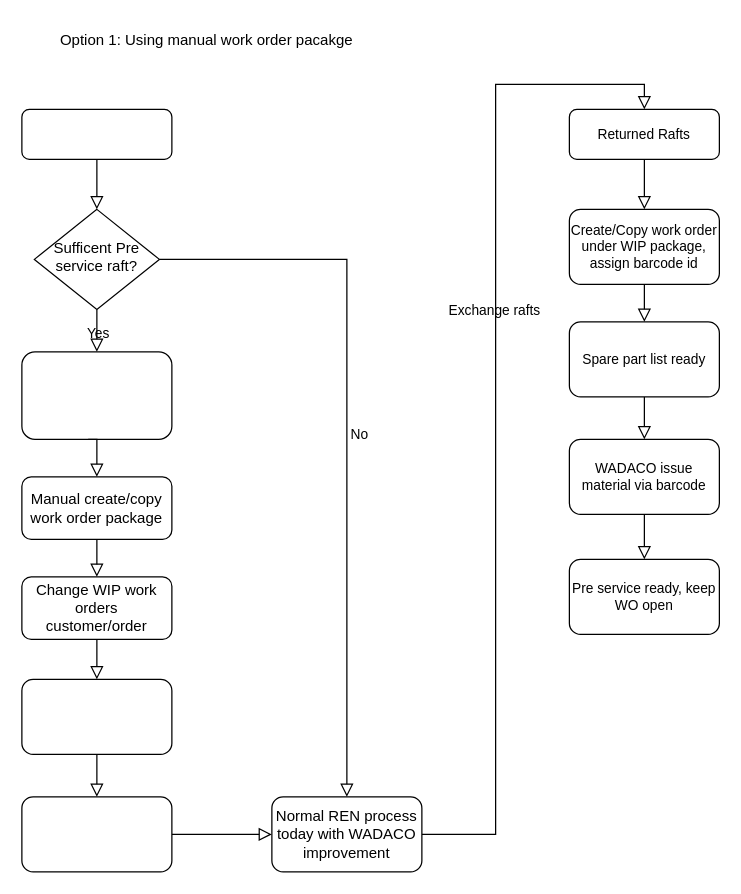
This 741x894 diagram has some shape labels left out. The box of each missing label's shape, as (x1, y1, x2, y2) in pixels:
Customer demand: (21, 108, 172, 159)
Disconnect work order from WIP and connect to new package: (21, 678, 172, 754)
open work orders selection by type/manufacturing date and barcode: (21, 351, 172, 439)
Release customer order: (21, 796, 172, 872)
